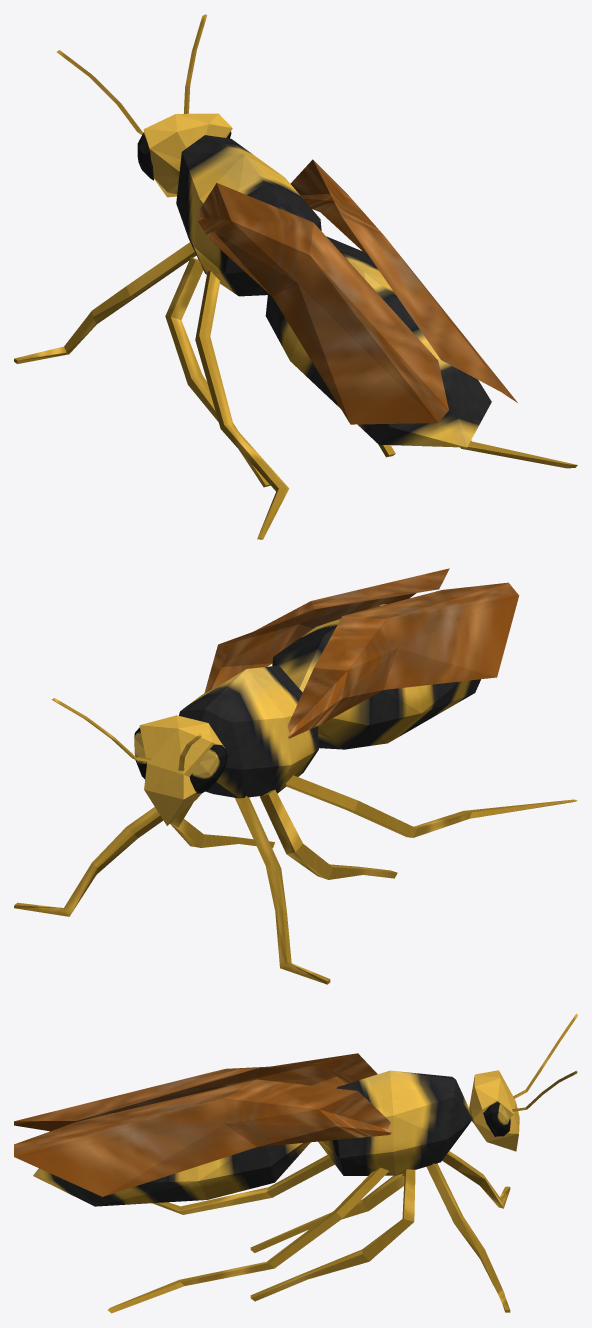
Rendered from hornet.glb.
3 renders of one model, top to bottom at view 1: azimuth 30°, elevation 25°; view 2: azimuth 150°, elevation 25°; view 3: azimuth 270°, elevation 25°, orthographic. The views are drawn at different scales.
Visible parts, largest first — view 1: wings4, ZtoY, legs4, antenna32; view 2: wings4, ZtoY, legs4, eyes32, antenna32; view 3: wings4, ZtoY, legs4, eyes32, antenna32.
Part boxes in pixels (bbox=[...]): wings4: bbox=[197, 159, 517, 424]; ZtoY: bbox=[143, 113, 491, 447]; legs4: bbox=[14, 242, 577, 539]; antenna32: bbox=[56, 14, 207, 134]; wings4: bbox=[204, 568, 519, 738]; ZtoY: bbox=[139, 604, 480, 825]; legs4: bbox=[14, 775, 577, 984]; eyes32: bbox=[134, 727, 227, 793]; antenna32: bbox=[51, 698, 201, 770]; wings4: bbox=[14, 1053, 391, 1196]; ZtoY: bbox=[33, 1070, 519, 1206]; legs4: bbox=[108, 1151, 510, 1313]; eyes32: bbox=[483, 1101, 510, 1136]; antenna32: bbox=[512, 1013, 577, 1111].
Bounding box in the file's own units: 3.55 × 3.12 × 6.76.
1 material, 1 textured.
